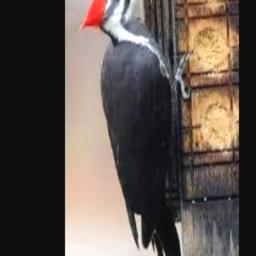Woodpecker: (79, 0, 191, 256)
